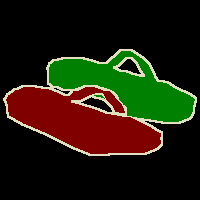shoe: (4, 86, 162, 155), (47, 50, 196, 123)
